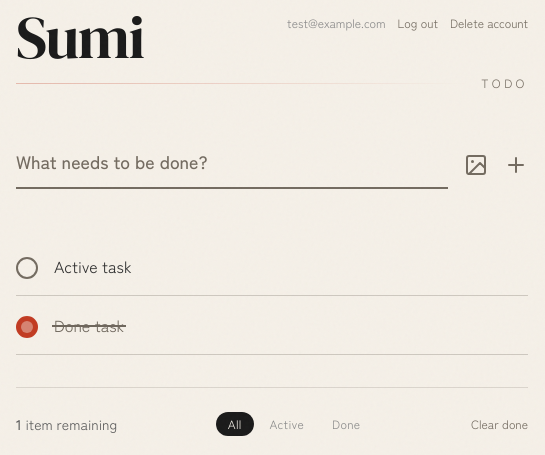
Scenario: Home › フィルター › All フィルターで全てのTodoが表示される
The image size is (545, 455).
Expected: the text "Active task" is shown, [54, 254, 132, 278]
Click the button "Active".
click(287, 424)  # box [258, 412, 316, 436]
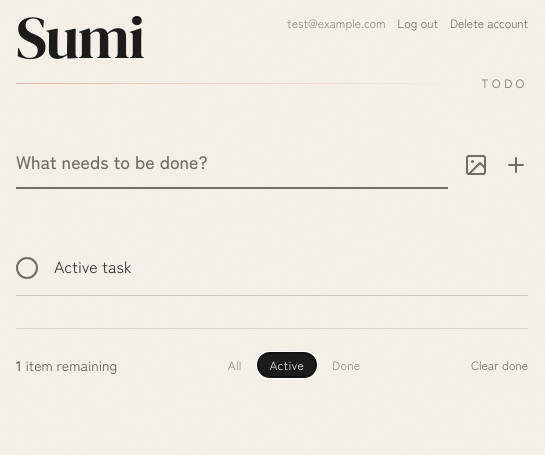
Now the text "Done task" is gone
Note:  All に戻す
Click the button "All".
click(235, 365)  # box [216, 353, 254, 377]
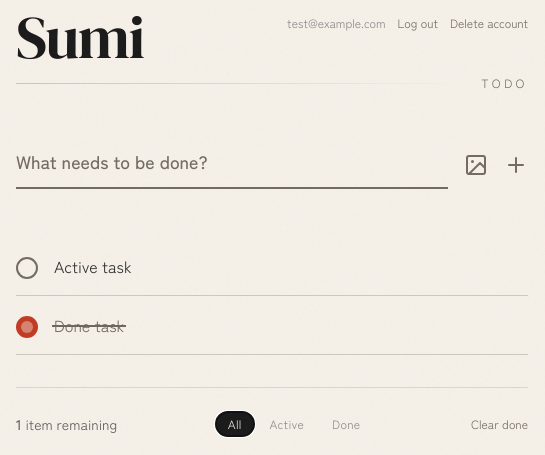
Expected: the text "Active task" is shown, [54, 254, 132, 278]
Now the text "Done task" is shown, box [54, 313, 124, 337]
